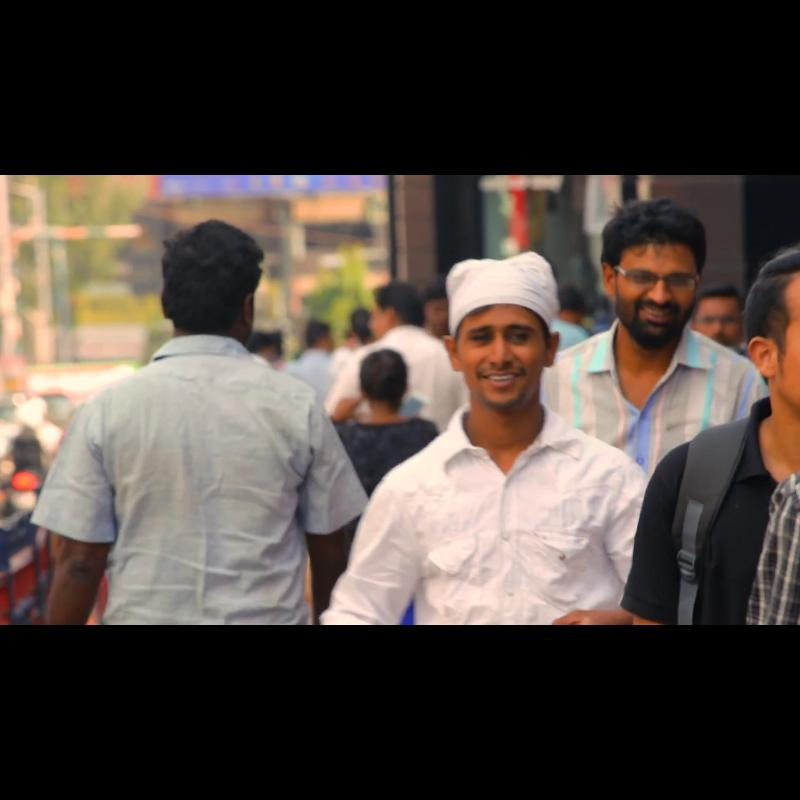Shirt: (32, 344, 378, 625), (322, 426, 646, 623)
